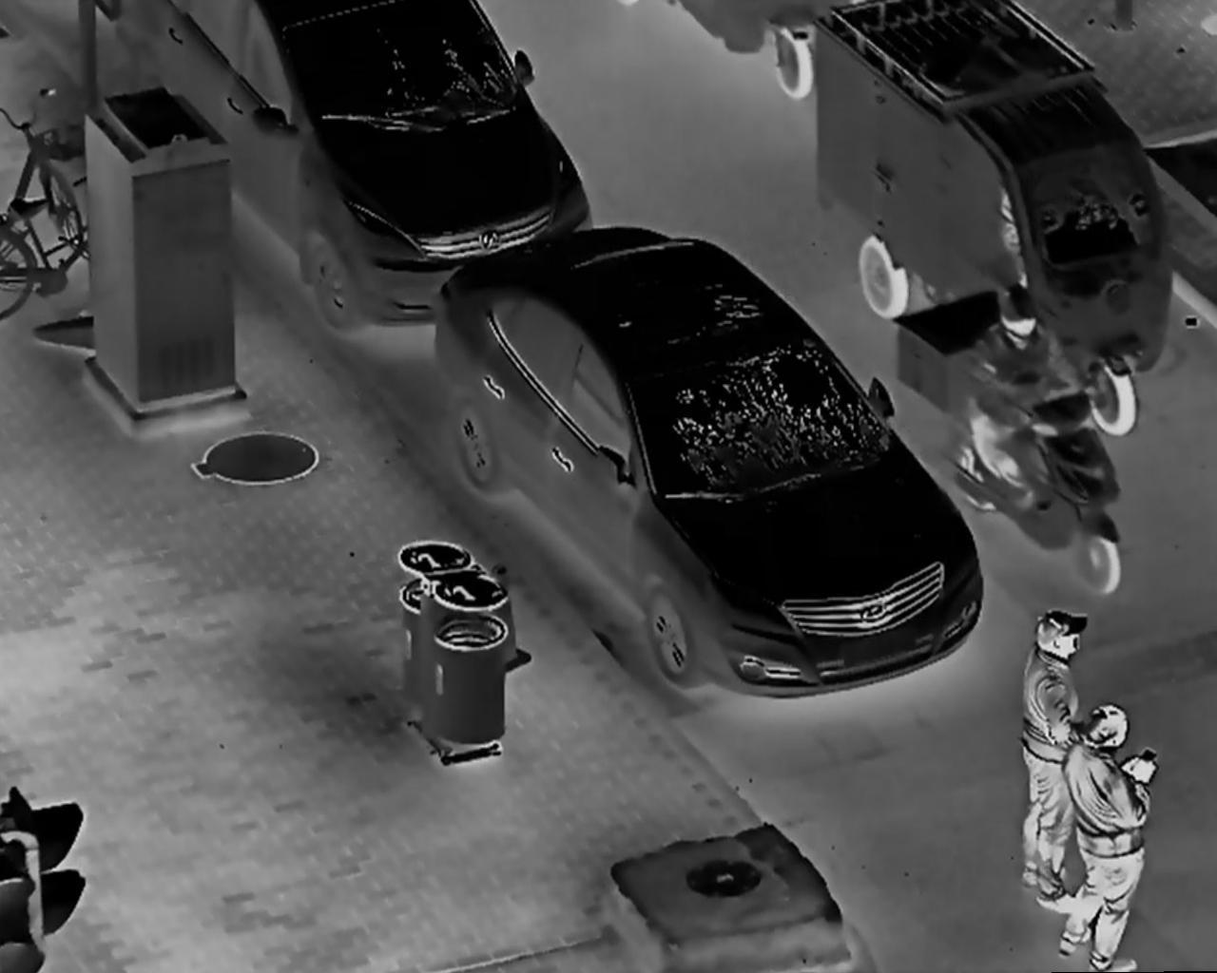person: (1053, 706, 1169, 973), (1014, 612, 1097, 909), (970, 289, 1088, 483)
